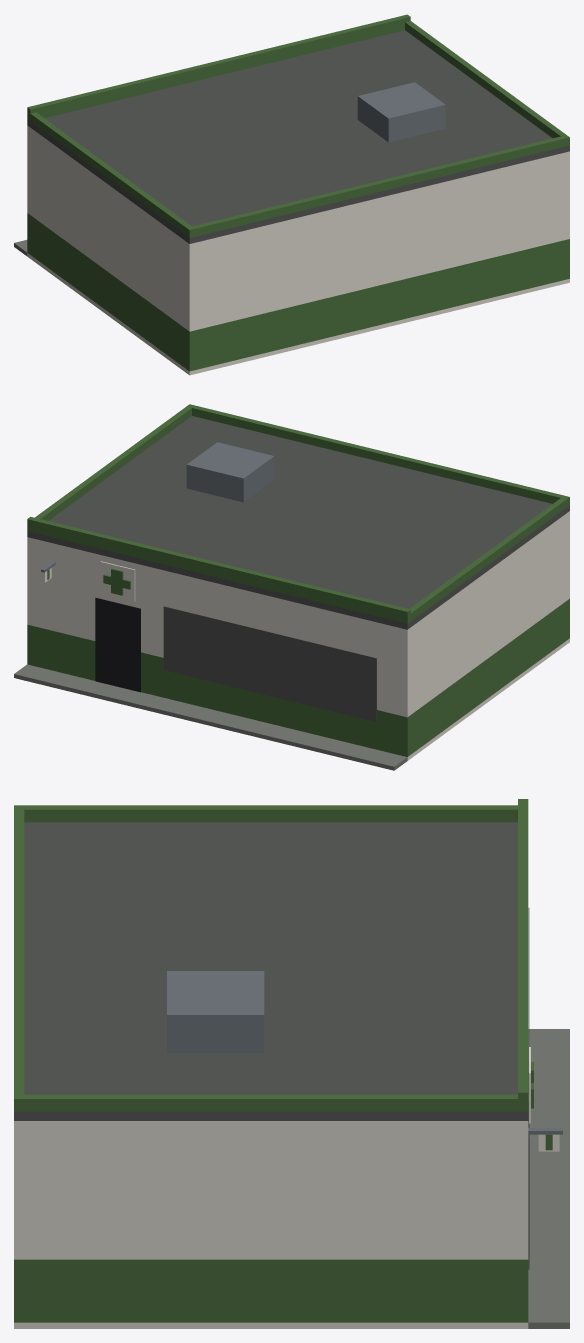
The model's file is pharmacy_lod1.glb.
3 renders of one model, top to bottom at view 1: azimuth 30°, elevation 25°; view 2: azimuth 150°, elevation 25°; view 3: azimuth 270°, elevation 25°, orthographic. The views are drawn at different scales.
Visible parts, largest first — view 1: pharmacy_lod1; view 2: pharmacy_lod1; view 3: pharmacy_lod1.
Part boxes in pixels (x1,y1,x2,y2): pharmacy_lod1: [14, 14, 569, 375]; pharmacy_lod1: [14, 404, 569, 770]; pharmacy_lod1: [14, 799, 569, 1328].
Size of what is drawn, in the model's own units: 10 by 4.05 by 8.
1 material, 1 textured.
